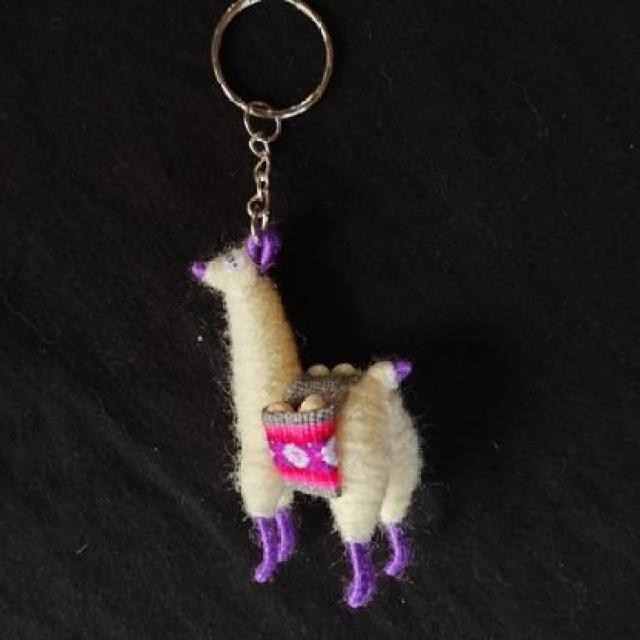Llavero: (187, 233, 424, 610)
